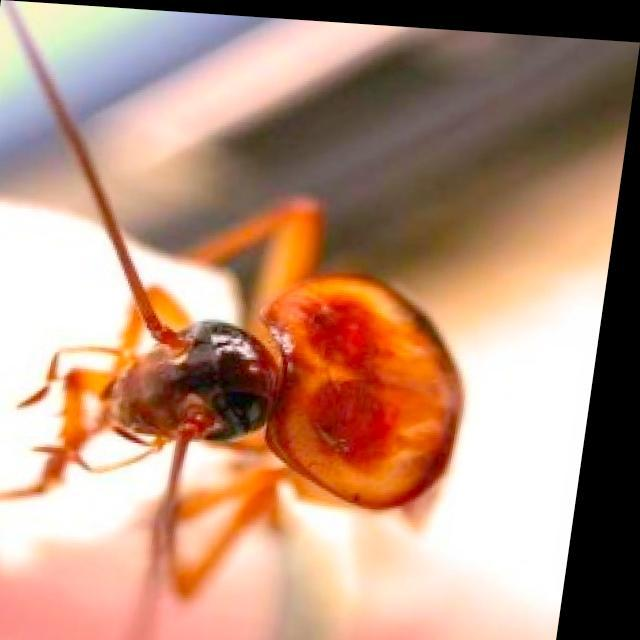cockroach: (51, 138, 592, 634)
